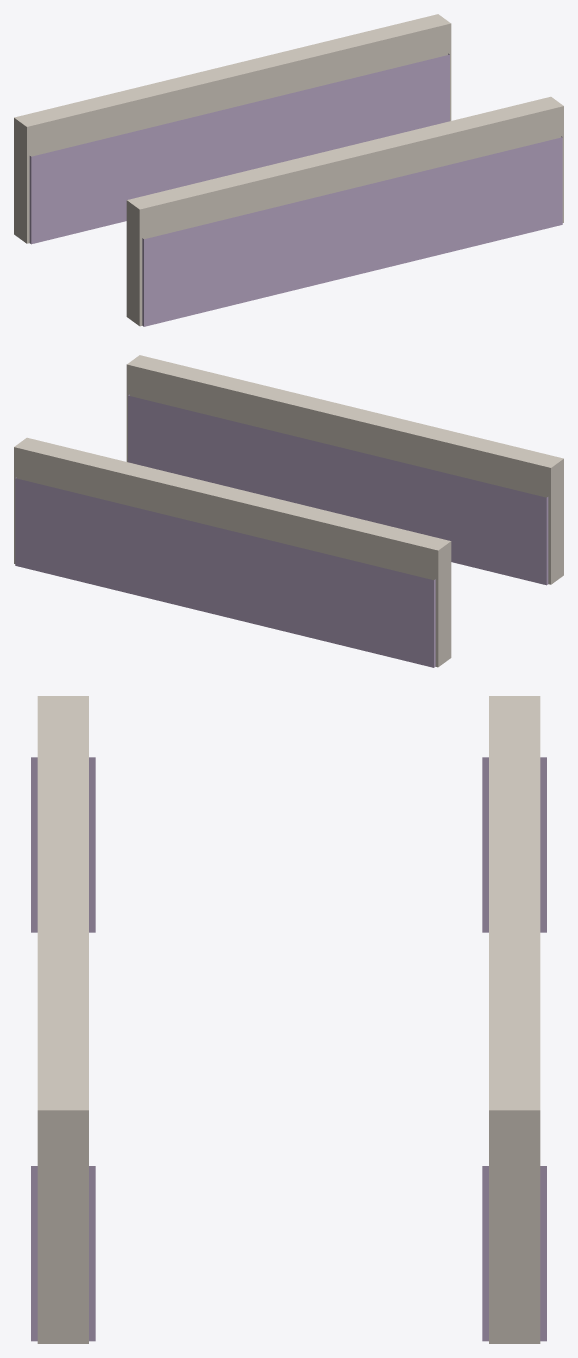
The model's file is standing_walls.dae.
3 renders of one model, top to bottom at view 1: azimuth 30°, elevation 25°; view 2: azimuth 150°, elevation 25°; view 3: azimuth 270°, elevation 25°, orthographic. The views are drawn at different scales.
Parts seen in each view (by area): view 1: $dummy_node (×2); view 2: $dummy_node (×2); view 3: $dummy_node (×2).
Boxes of the visible parts, bbox=[...] form: $dummy_node (×2): bbox=[14, 14, 563, 326]; $dummy_node (×2): bbox=[14, 355, 563, 667]; $dummy_node (×2): bbox=[31, 696, 546, 1343].
Bounding box in the file's own units: 15.2 × 4 × 8.
